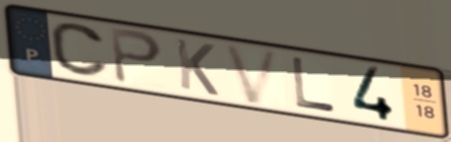4: (349, 63, 397, 125)
C: (47, 20, 113, 79)
K: (173, 35, 222, 99)
L: (289, 54, 338, 115)
P: (107, 25, 166, 87)
V: (221, 41, 285, 107)
